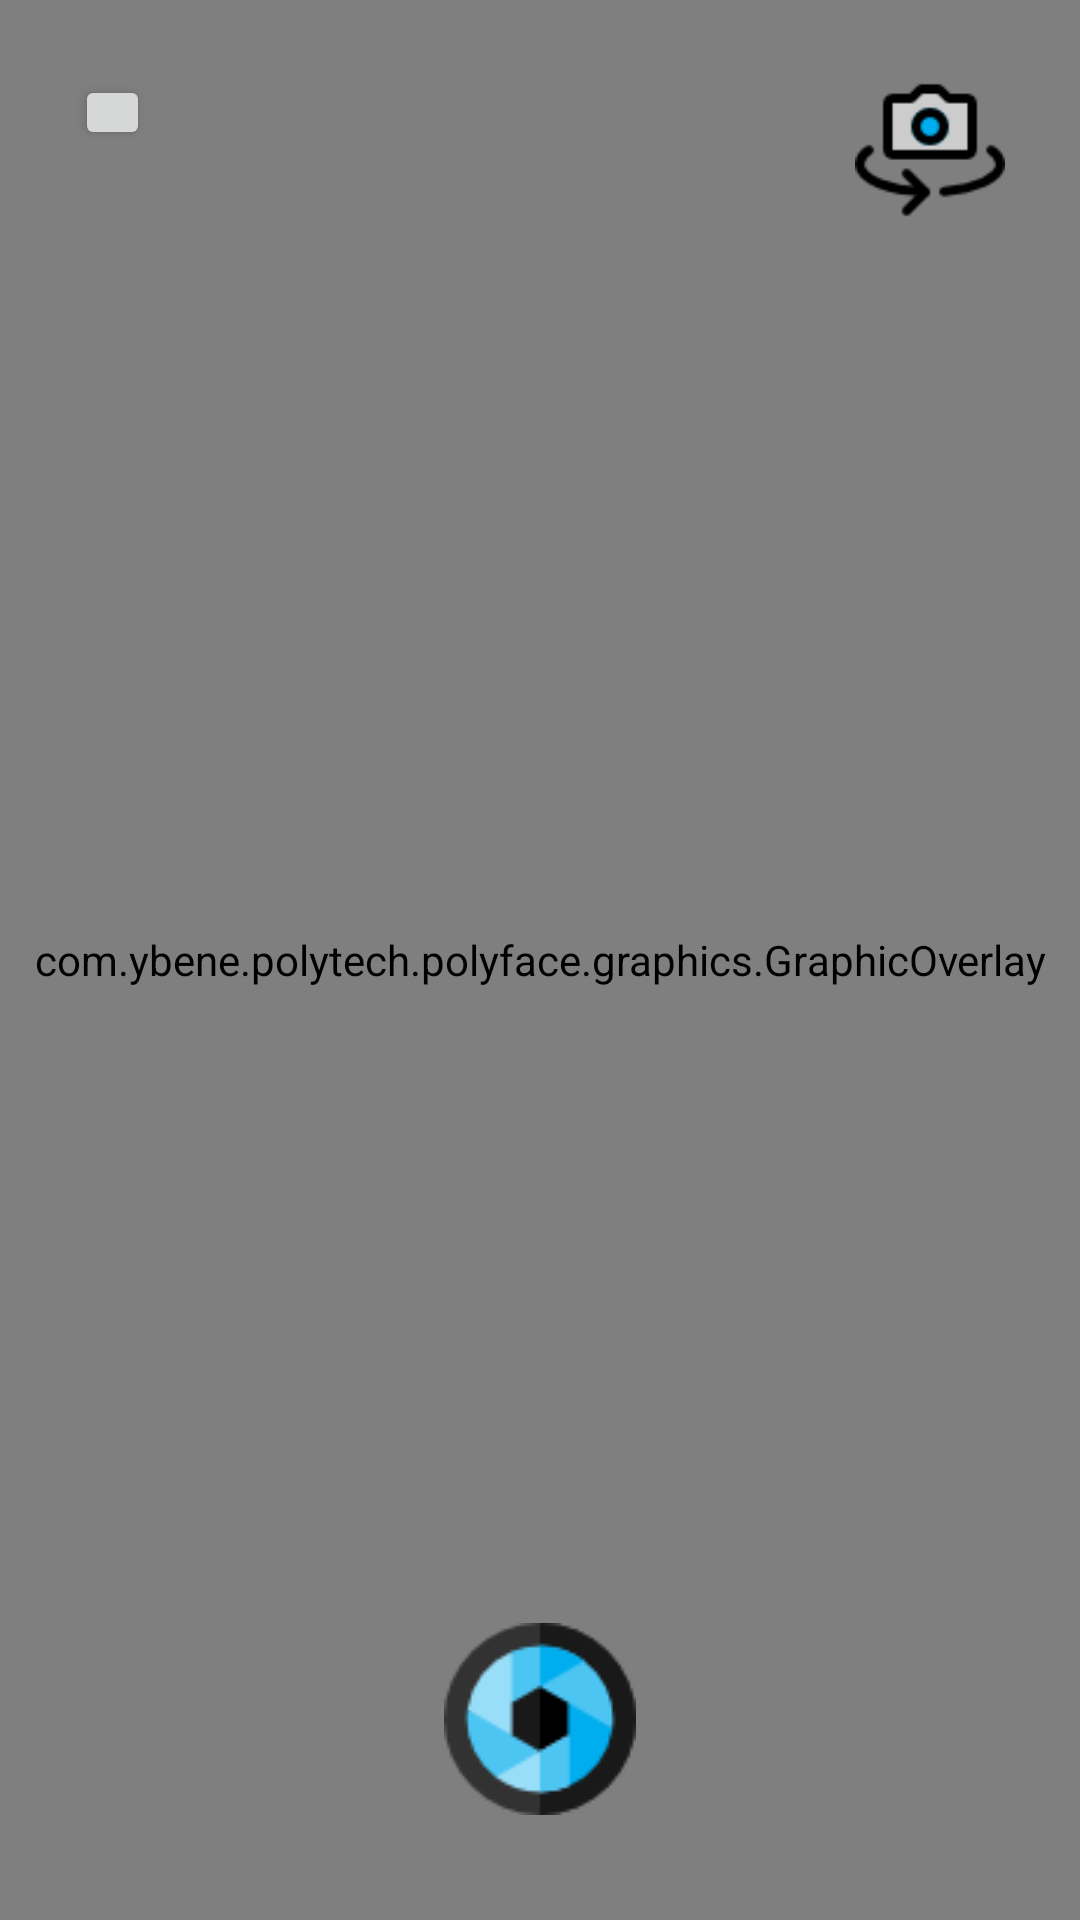

Icon click points for this 1080×1920 phone screenshot, format (x=x, y=y):
camera activity: (x=540, y=1719)
camera activity swap: (x=930, y=150)
